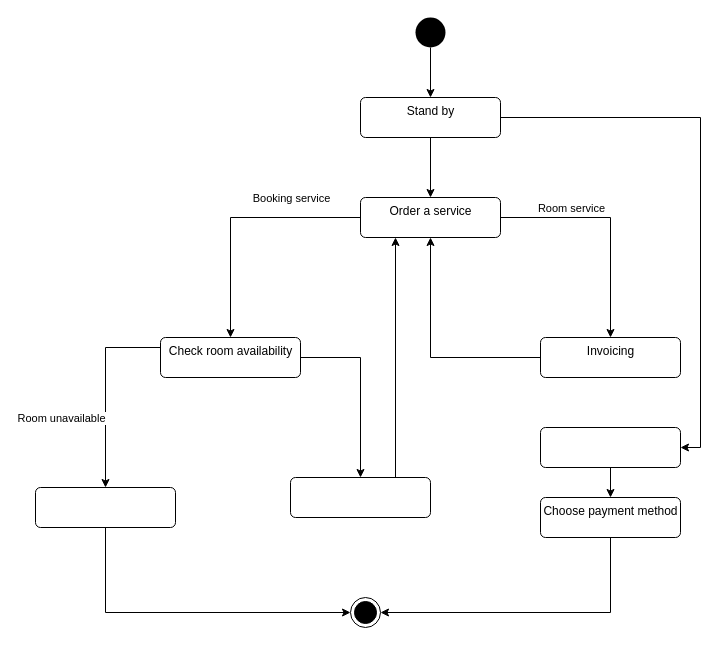
The diagram is 726 pixels wide and 645 high, and some of its shapes have lost their labels. The shapes that lost their labels are listed below. From the top down, each one's centre as x and y in pixels, then its label:
At (610,447): "Checkout".
At (105,507): "Deny service".
At (360,497): "Room order record".
